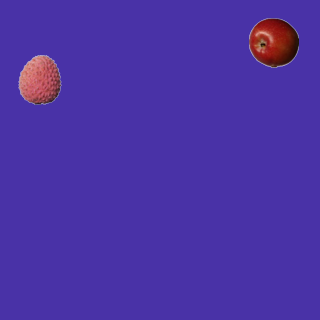Apple Braeburn: (248, 17, 298, 67)
Lychee: (14, 54, 64, 104)
